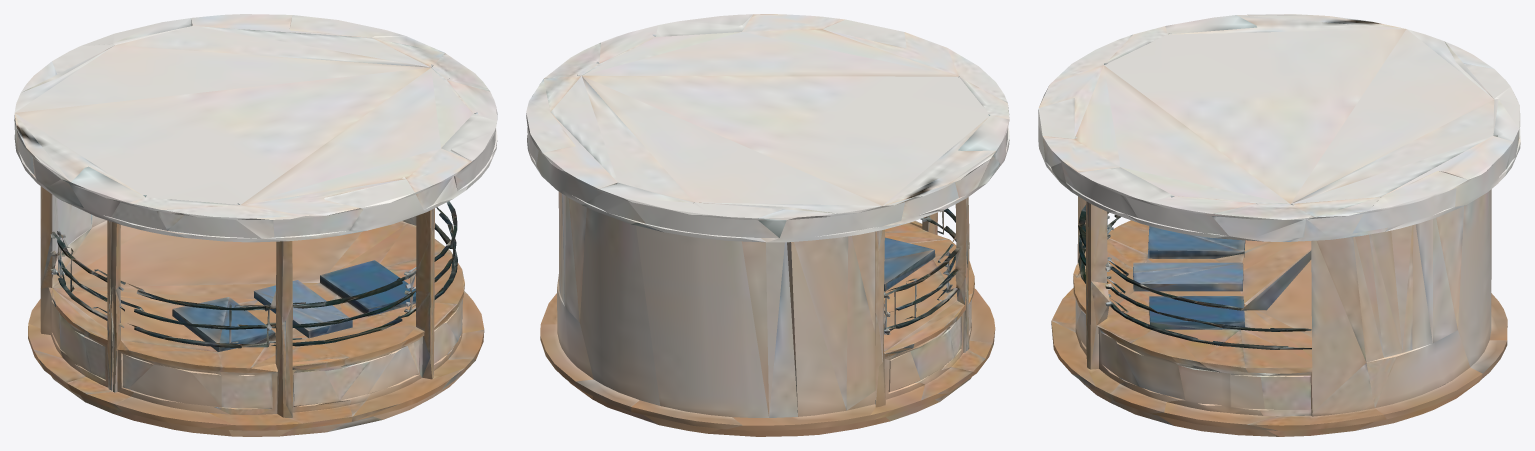
Rendered from mall_kiosk_low.glb.
The picture shows the model from 3 angles, left to right: view 1: azimuth 30°, elevation 25°; view 2: azimuth 150°, elevation 25°; view 3: azimuth 270°, elevation 25°; orthographic projection.
Visible parts, largest first — view 1: mall_kiosk; view 2: mall_kiosk; view 3: mall_kiosk.
Part boxes in pixels (x1,y1,x2,y2): mall_kiosk: (14, 14, 497, 436); mall_kiosk: (526, 14, 1009, 436); mall_kiosk: (1038, 14, 1520, 436).
Bounding box in the file's own units: 3 × 1.58 × 3.
Materials: 1 (1 with a texture image).
